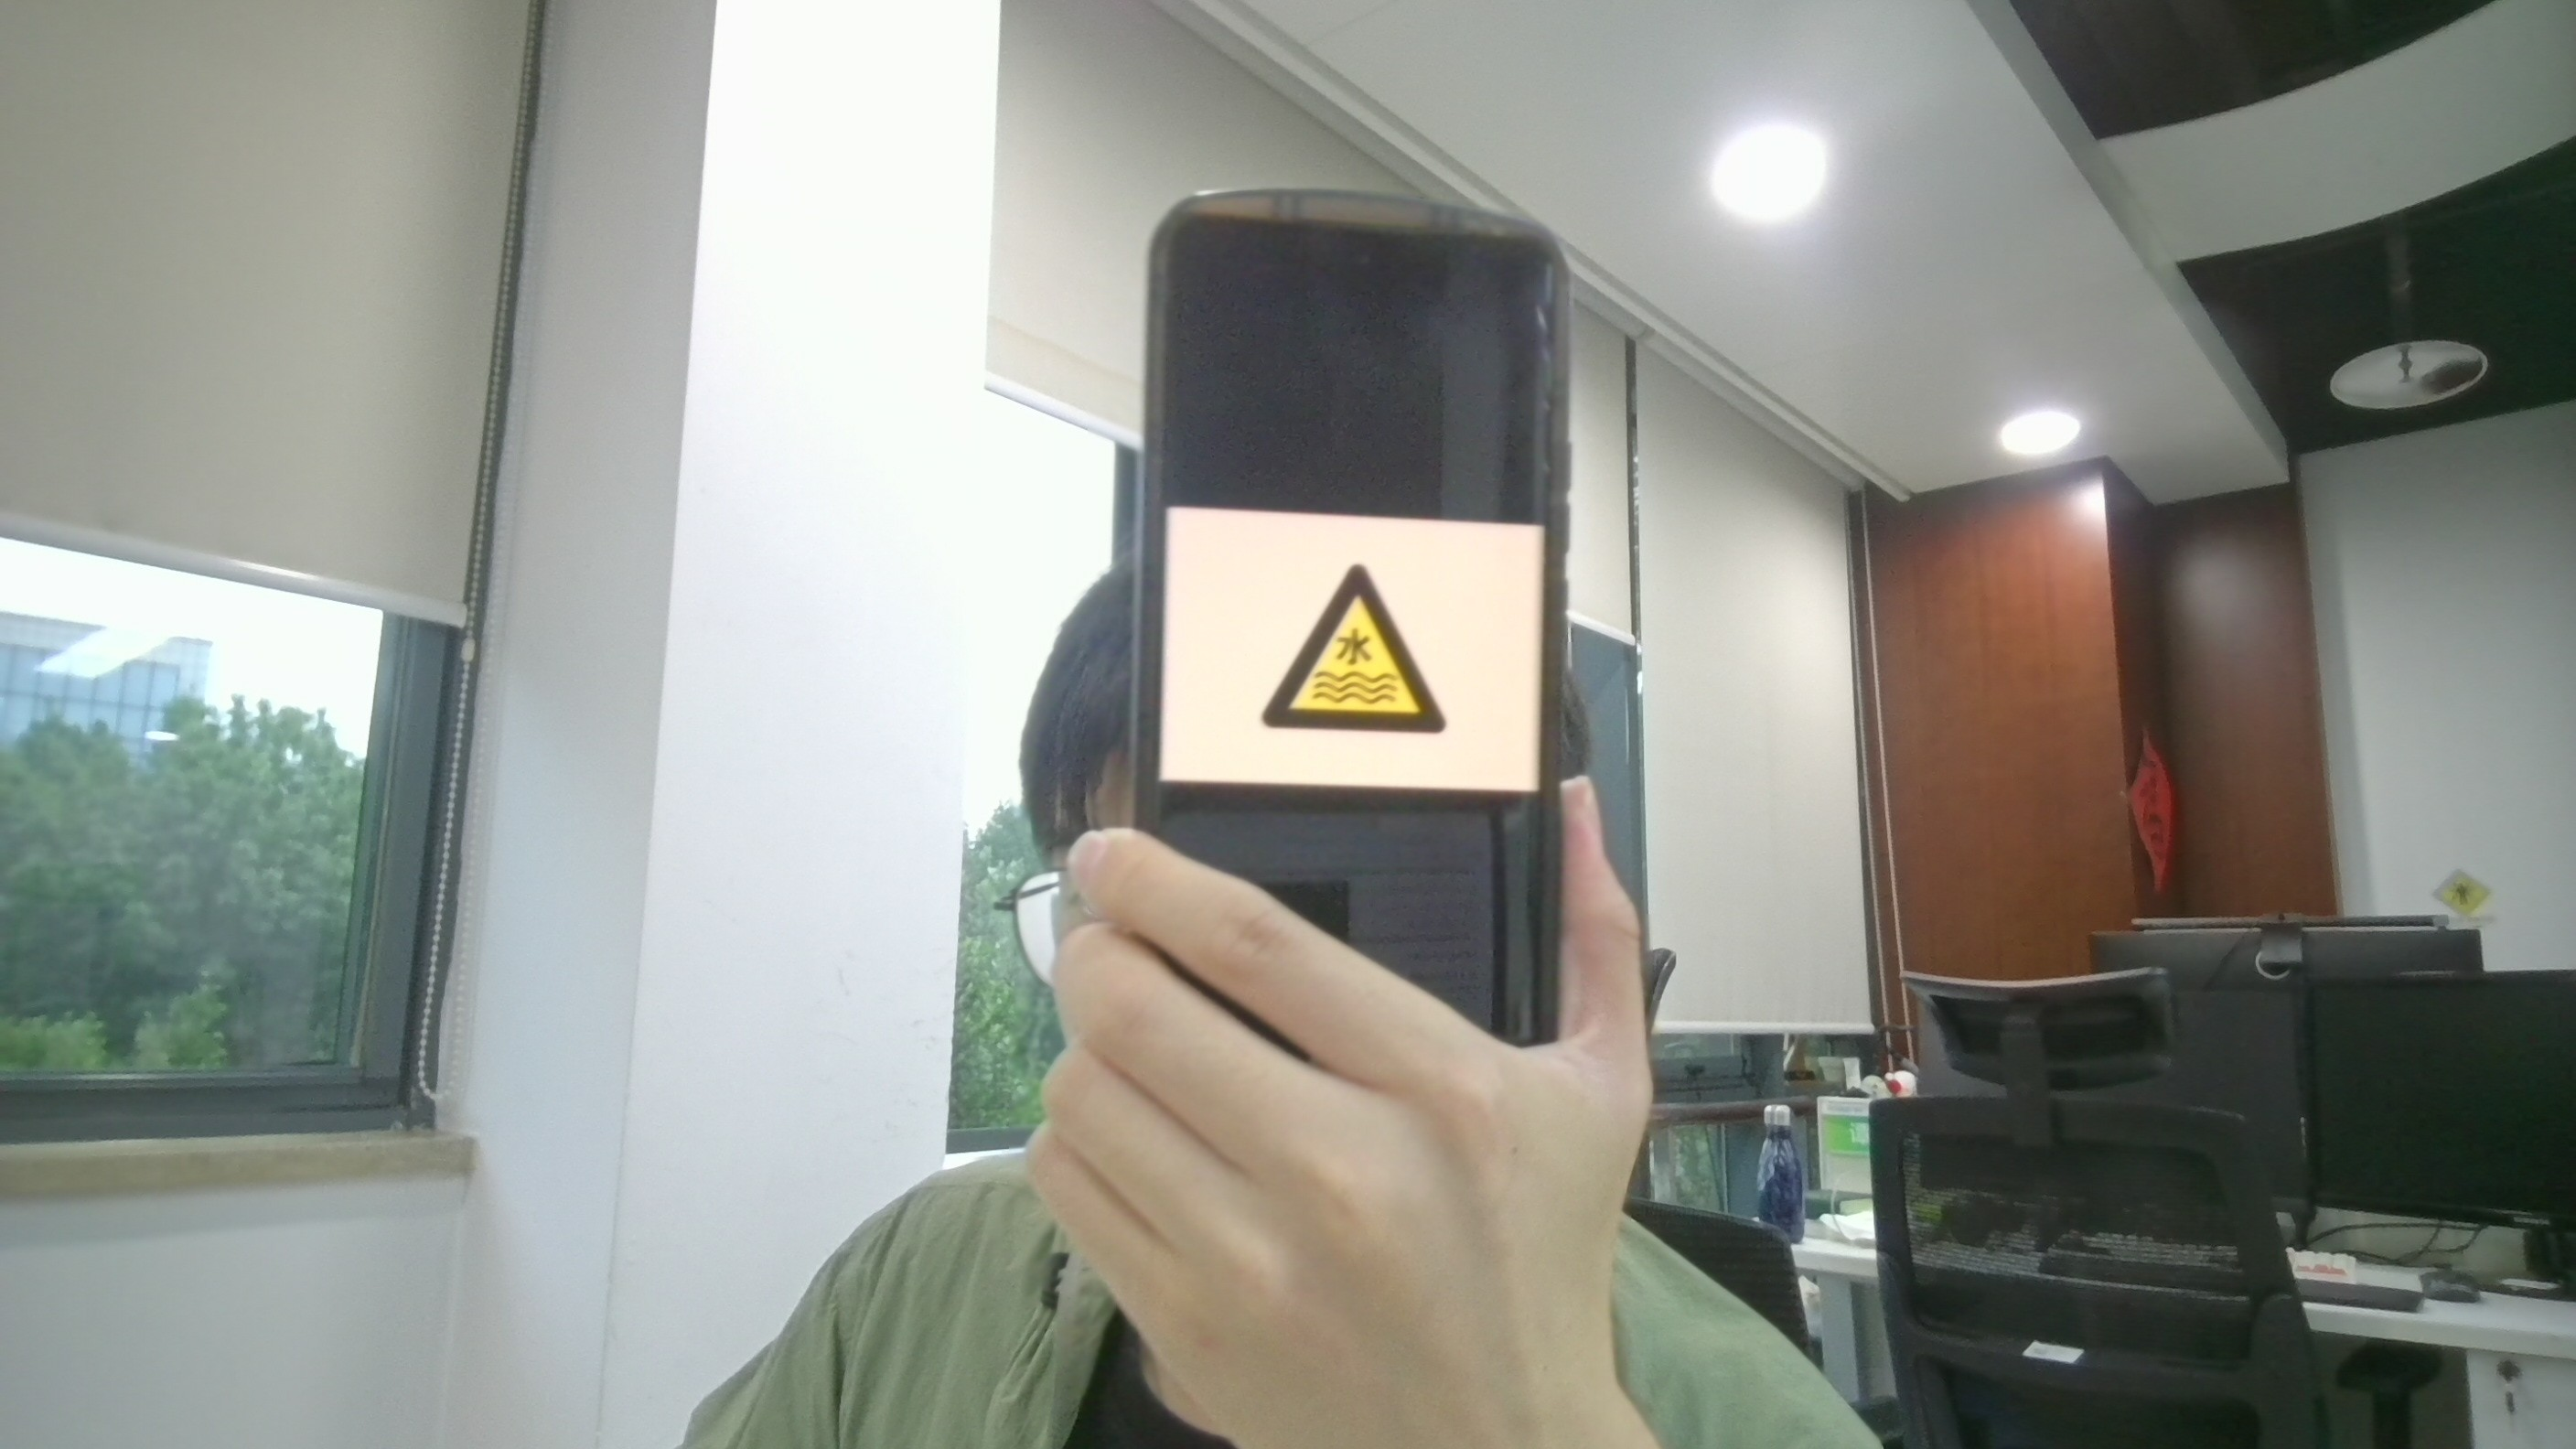shuizai: (1258, 561, 1445, 736)
